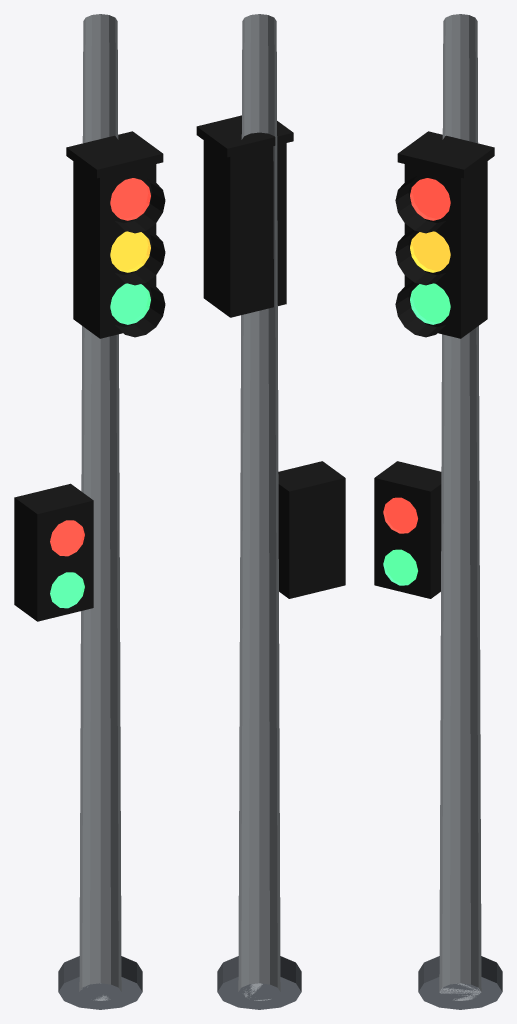
File: signal-pedestrian.glb
The picture shows the model from 3 angles, left to right: view 1: azimuth 30°, elevation 25°; view 2: azimuth 210°, elevation 25°; view 3: azimuth 330°, elevation 25°; orthographic projection.
Visible parts, largest first — view 1: signal-pedestrian; view 2: signal-pedestrian; view 3: signal-pedestrian.
Boxes of the visible parts, left/top/right/bottom form: signal-pedestrian: left=14, top=14, right=165, bottom=1009; signal-pedestrian: left=196, top=14, right=345, bottom=1009; signal-pedestrian: left=374, top=14, right=502, bottom=1009.
Size of the model in its own units: 0.67 by 5.6 by 0.64.
